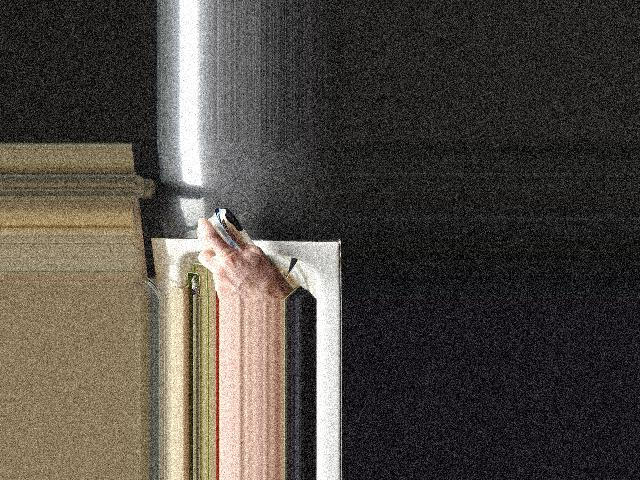cheese: (201, 204, 267, 294)
